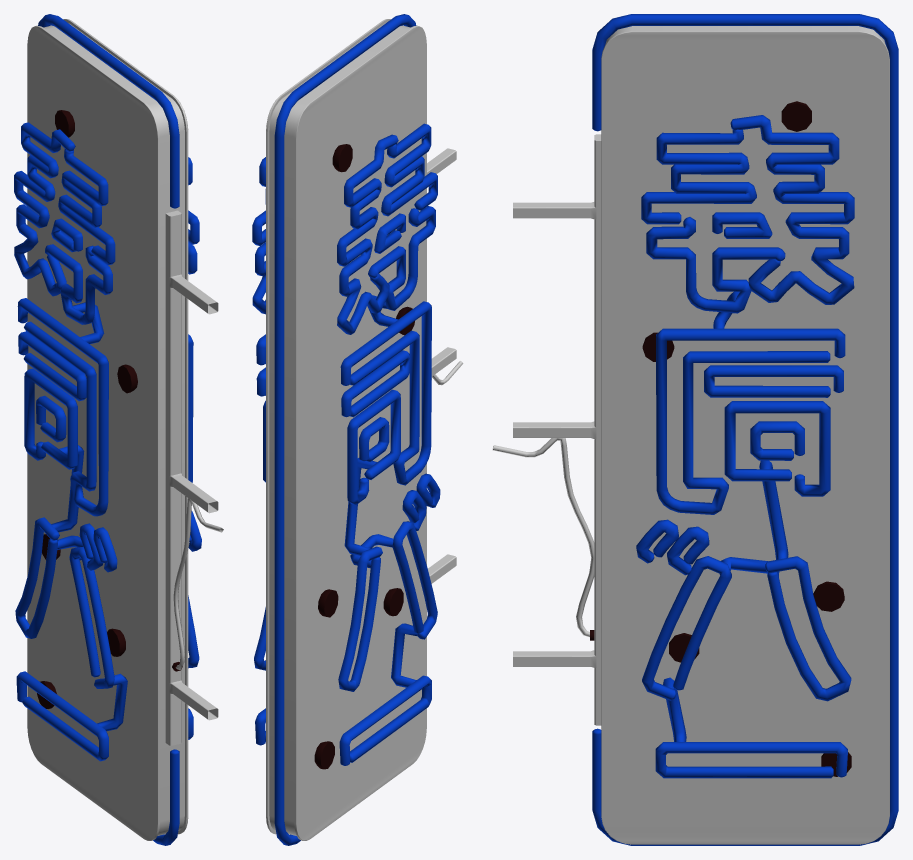
The model's file is uploads_files_872007_sign_neon_small_vert.fbx.
3 renders of one model, left to right at view 1: azimuth 30°, elevation 25°; view 2: azimuth 150°, elevation 25°; view 3: azimuth 270°, elevation 25°, orthographic. The views are drawn at different scales.
Parts seen in each view (by area): view 1: sign_neon_small_vert; view 2: sign_neon_small_vert; view 3: sign_neon_small_vert.
Part boxes in pixels (bbox=[...]): sign_neon_small_vert: bbox=[14, 14, 223, 845]; sign_neon_small_vert: bbox=[252, 14, 463, 845]; sign_neon_small_vert: bbox=[492, 14, 898, 845].
Size of the model in its own units: 13.69 by 103 by 45.62.
